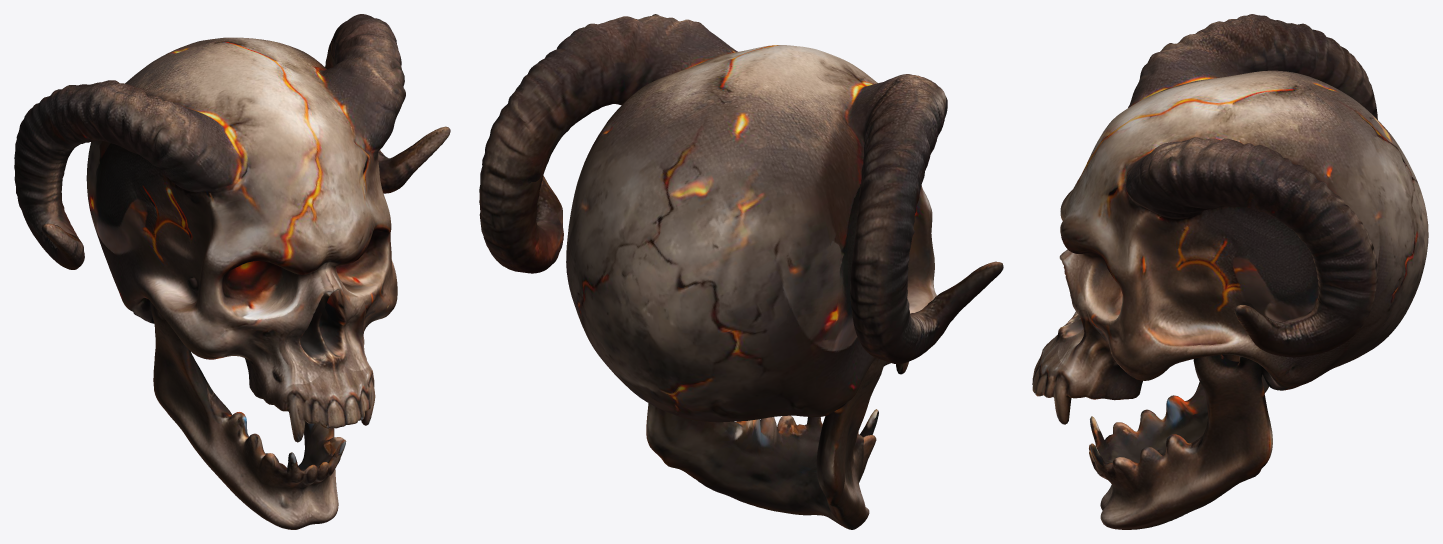
The model's file is skull.glb.
3 views of the same model, side by side, from view 1: azimuth 30°, elevation 25°; view 2: azimuth 150°, elevation 25°; view 3: azimuth 270°, elevation 25° (orthographic). The views are drawn at different scales.
Parts seen in each view (by area): view 1: mvadapter_node_textured_art; view 2: mvadapter_node_textured_art; view 3: mvadapter_node_textured_art.
Boxes of the visible parts, bbox=[...] form: mvadapter_node_textured_art: bbox=[14, 14, 450, 529]; mvadapter_node_textured_art: bbox=[479, 14, 1003, 529]; mvadapter_node_textured_art: bbox=[1032, 14, 1428, 529].
Size of the model in its own units: 1.88 by 1.87 by 1.53.
1 material, 1 textured.
